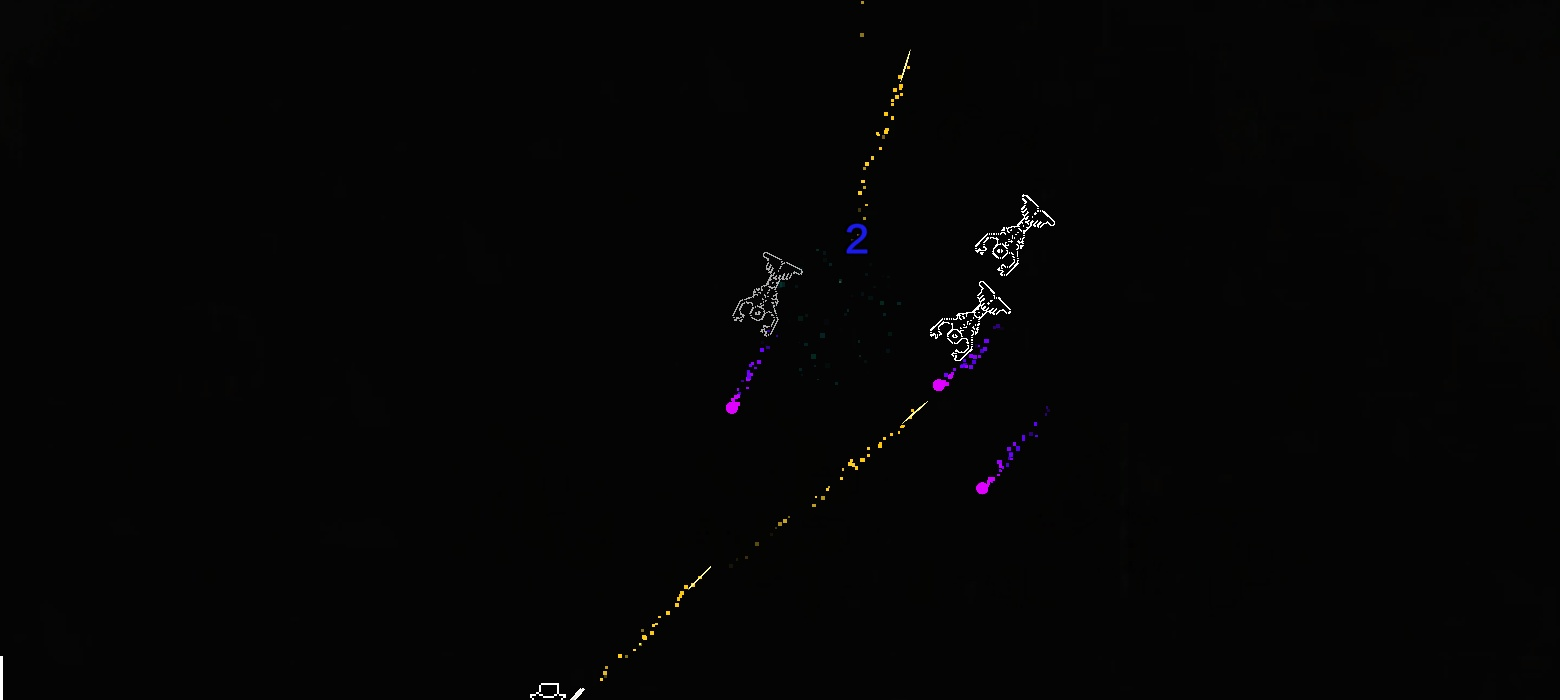enemy: (929, 280, 1011, 361), (975, 194, 1055, 277), (731, 251, 803, 337)
